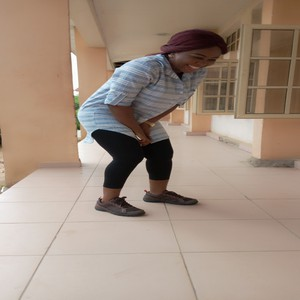Fulokoja_female_student: (88, 32, 222, 216)
